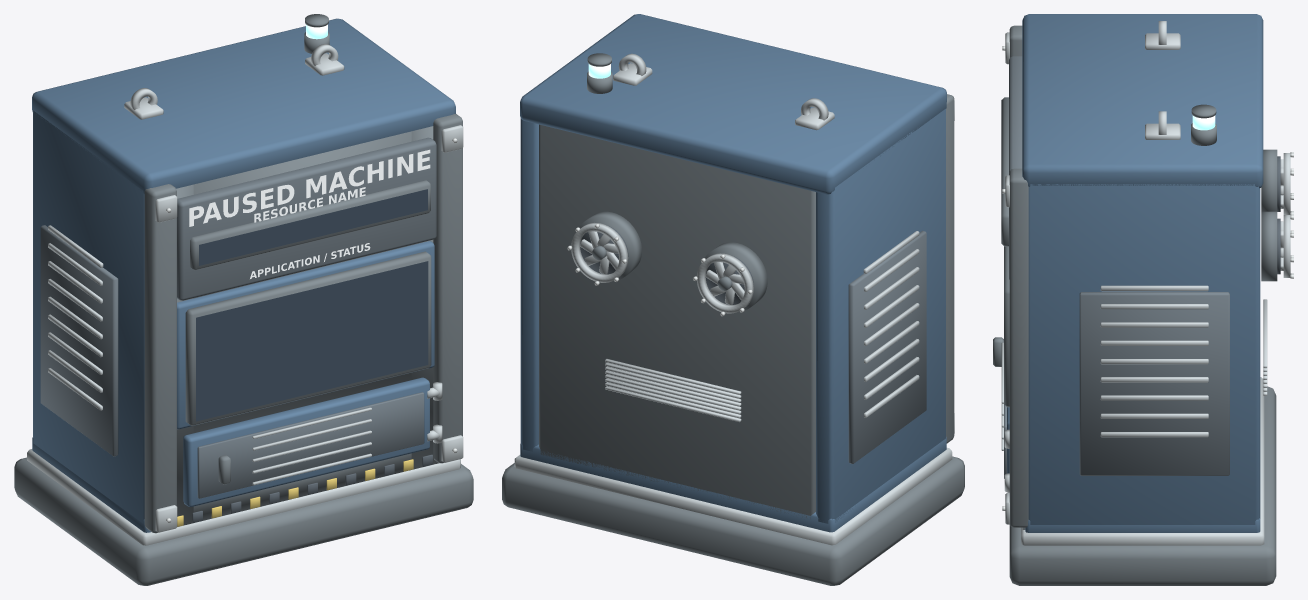
The model's file is paused_machine_ultra.glb.
3 renders of one model, left to right at view 1: azimuth 30°, elevation 25°; view 2: azimuth 150°, elevation 25°; view 3: azimuth 270°, elevation 25°, orthographic. The views are drawn at different scales.
Visible parts, largest first — view 1: Roof_navy, LiveViewSurface_glass, SideWall_navy, Skid_frame, CornerPost_frame, FrontHeader_graphite, SideServicePanel_graphite, DoorMoving_Inset_graphite, DoorMoving_Panel_navy, SkidDeck_steel, LiveViewSurfaceFrame_frame, ResourceNameSurface_glass (+15 smaller); view 2: BackWall_frame, Roof_navy, SideWall_navy, Skid_frame, SideServicePanel_graphite, SkidDeck_steel, KickPlate_navy, RearFan_steel, RearVent_steel, SideLouver_steel, CornerPost_frame, RearFan_frame (+3 smaller); view 3: SideWall_navy, Roof_navy, SideServicePanel_graphite, Skid_frame, CornerPost_frame, SideLouver_steel, SkidDeck_steel, RearFan_frame, KickPlate_navy, FrontHeader_graphite, RearFan_steel, ResourceNameSurfaceFrame_frame (+7 smaller).
Boxes of the visible parts, x1,y1,x2,y2 form: Roof_navy: (32,18,455,194); LiveViewSurface_glass: (196,261,428,421); SideWall_navy: (33,110,144,523); Skid_frame: (14,457,473,585); CornerPost_frame: (144,114,462,533); FrontHeader_graphite: (177,137,436,300); SideServicePanel_graphite: (40,225,118,456); DoorMoving_Inset_graphite: (197,392,424,498); DoorMoving_Panel_navy: (183,377,429,506); SkidDeck_steel: (27,449,460,545); LiveViewSurfaceFrame_frame: (185,251,431,425); ResourceNameSurface_glass: (199,189,427,265); BackWall_frame: (539,124,815,518); Roof_navy: (520,14,946,194); SideWall_navy: (520,109,945,523); Skid_frame: (502,456,964,585); SideServicePanel_graphite: (848,230,926,463); SkidDeck_steel: (514,447,952,545); KickPlate_navy: (520,437,946,532); RearFan_steel: (571,222,753,313); RearVent_steel: (605,359,741,422); SideLouver_steel: (863,231,919,417); CornerPost_frame: (946,94,954,443); RearFan_frame: (579,211,767,311); SideWall_navy: (1028,184,1260,524); Roof_navy: (1022,14,1263,188); SideServicePanel_graphite: (1079,292,1229,475); Skid_frame: (1009,386,1276,585); CornerPost_frame: (1009,25,1028,527); SideLouver_steel: (1100,285,1208,437); SkidDeck_steel: (1021,377,1264,545); RearFan_frame: (1261,149,1277,281); KickPlate_navy: (1025,518,1260,532); FrontHeader_graphite: (1009,56,1022,279); RearFan_steel: (1280,153,1290,277); ResourceNameSurfaceFrame_frame: (1001,97,1008,246).
Size of the model in its own units: 2 by 2.48 by 1.51.
